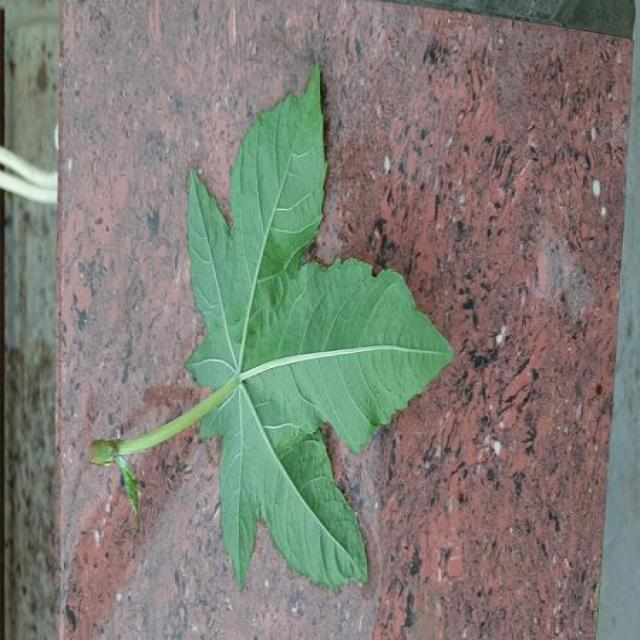castor: (102, 66, 453, 588)
